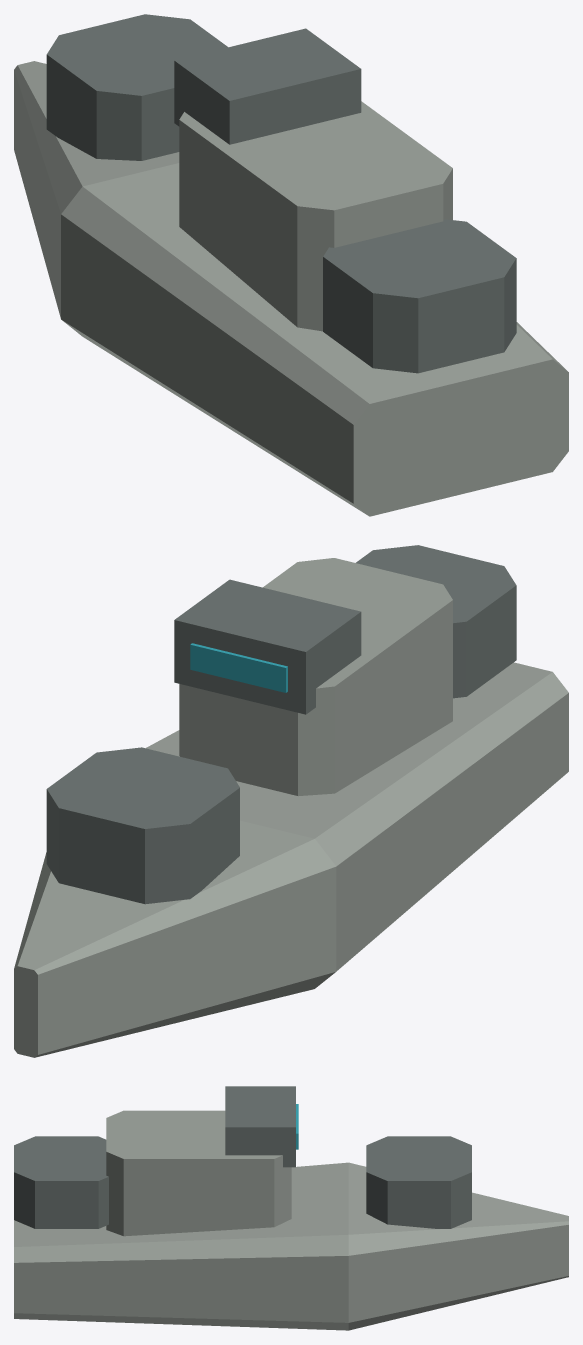
The model's file is family-naval.glb.
The picture shows the model from 3 angles, top to bottom: view 1: azimuth 30°, elevation 25°; view 2: azimuth 150°, elevation 25°; view 3: azimuth 270°, elevation 25°; orthographic projection. The views are drawn at different scales.
Visible parts, largest first — view 1: hull, turret2, turret; view 2: hull, turret, turret2; view 3: hull, turret, turret2.
Part boxes in pixels (box(x1,y1,x2,y2)): hull: box(14, 28, 568, 516); turret2: box(323, 219, 516, 373); turret: box(46, 14, 227, 160); hull: box(14, 558, 568, 1057); turret: box(46, 747, 239, 904); turret2: box(356, 545, 516, 698); hull: box(14, 1086, 568, 1330); turret: box(366, 1136, 471, 1228); turret2: box(14, 1136, 108, 1228).
Bounding box in the file's own units: 23 × 23.5 × 63.
